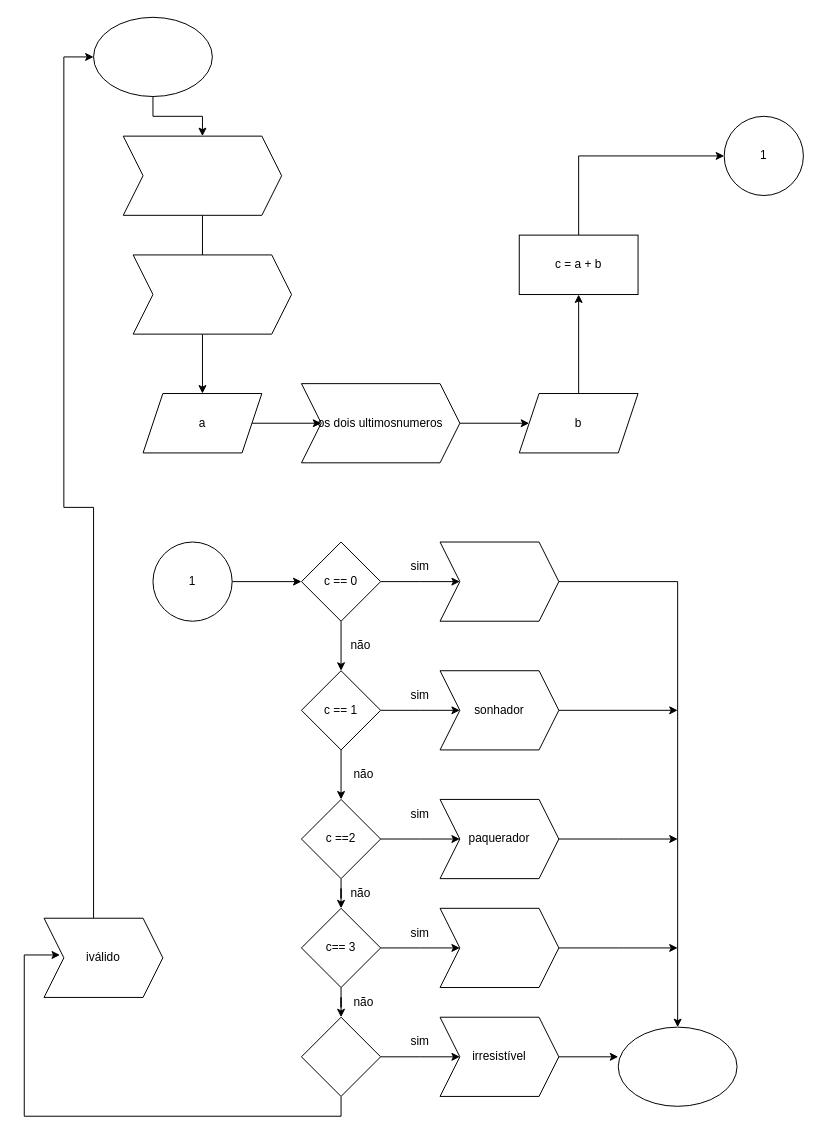
Image size: 821x1141. Some labels were removed from this diagram. The shapes that lost their labels are listed below. From the top down, each one's centre as x and y in pixels, then its label:
the point at 152,56: Início
the point at 202,175: qual seu ano de nascimento separado por dois
the point at 212,294: os dois primeiros numeros
the point at 499,581: tímido
the point at 499,947: atraente
the point at 340,1056: c ==4
the point at 677,1066: fim
